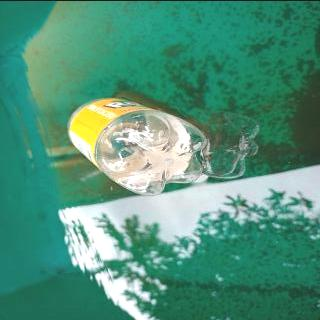bottle: (64, 95, 210, 197)
